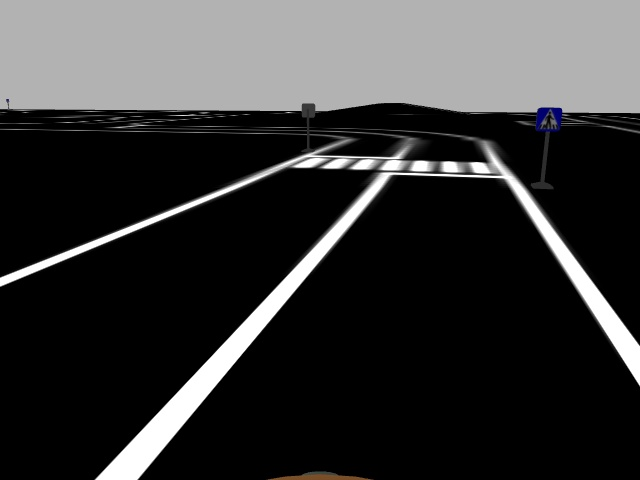crosswalk: (534, 105, 565, 131)
